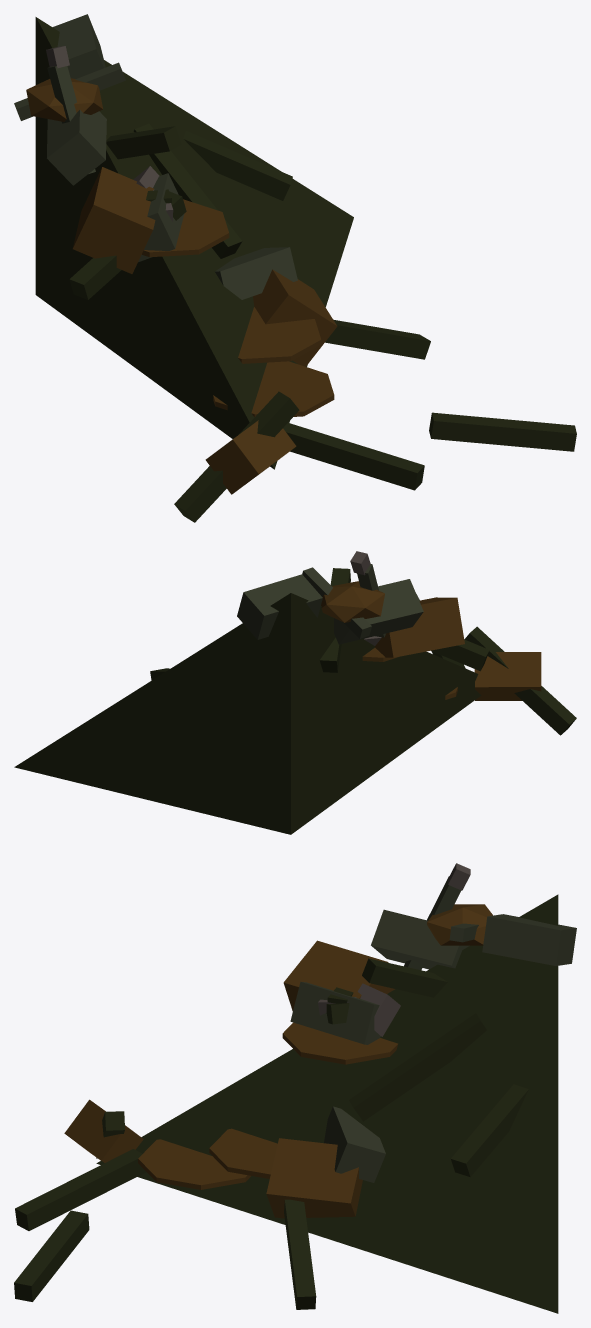
Rendered from SM_PilaZombi_RemateDer_Altura3_s1_LOD0.fbx.
The picture shows the model from 3 angles, top to bottom: view 1: azimuth 30°, elevation 25°; view 2: azimuth 150°, elevation 25°; view 3: azimuth 270°, elevation 25°; orthographic projection. The views are drawn at different scales.
Parts seen in each view (by area): view 1: SM_pila_zombis_v7_LOD0; view 2: SM_pila_zombis_v7_LOD0; view 3: SM_pila_zombis_v7_LOD0.
Boxes of the visible parts, x1,y1,x2,y2 form: SM_pila_zombis_v7_LOD0: (14,14,576,522); SM_pila_zombis_v7_LOD0: (14,551,576,834); SM_pila_zombis_v7_LOD0: (14,863,576,1313).
Bounding box in the file's own units: 2.64 × 2 × 3.22.
